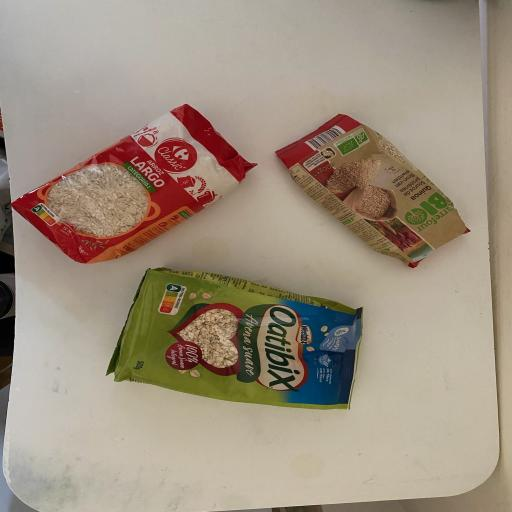oats: (107, 266, 364, 417)
quinoa: (272, 113, 474, 269)
rice: (9, 103, 253, 266)
